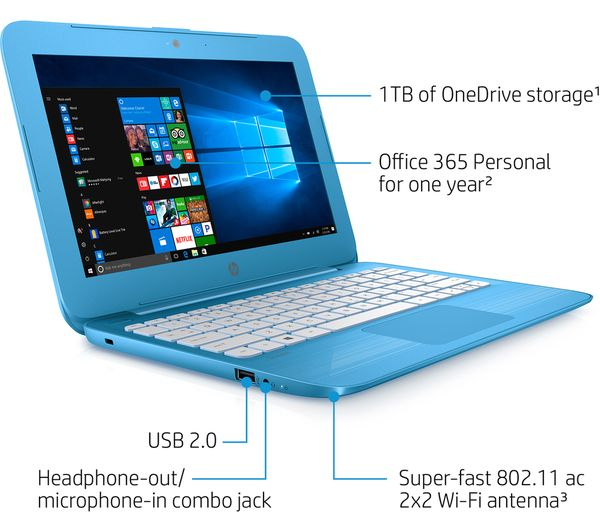Laptop: (1, 15, 600, 402)
